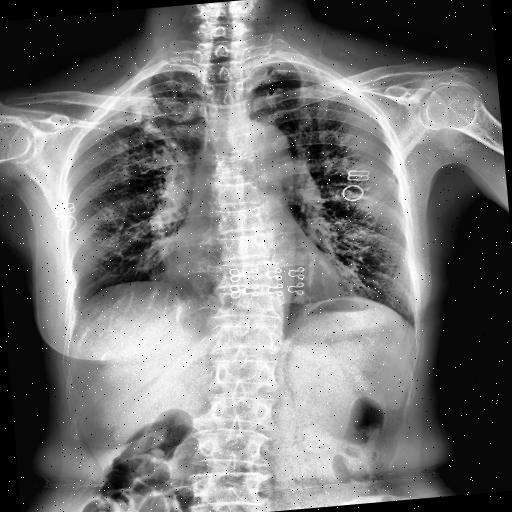0- Aortic enlargement: (226, 120, 294, 183), (234, 118, 294, 182), (240, 120, 292, 178)
11- Pleural thickening: (64, 286, 90, 338)
13- Pulmonary fibrosis: (110, 71, 188, 166), (118, 77, 186, 161), (110, 87, 178, 153)
